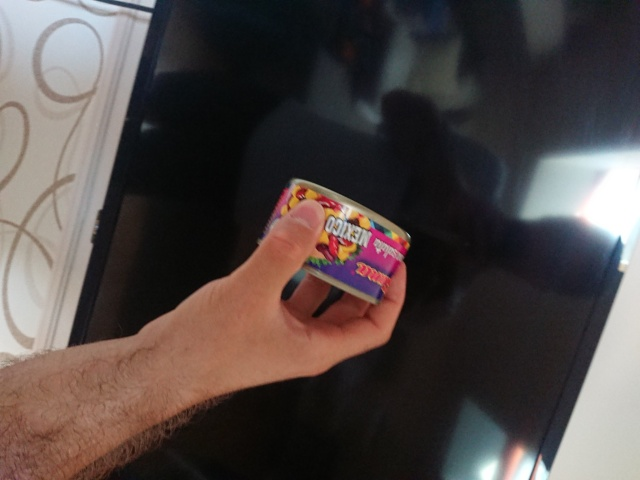Giana Tuna Salad Mexico 185g: (253, 175, 414, 308)
